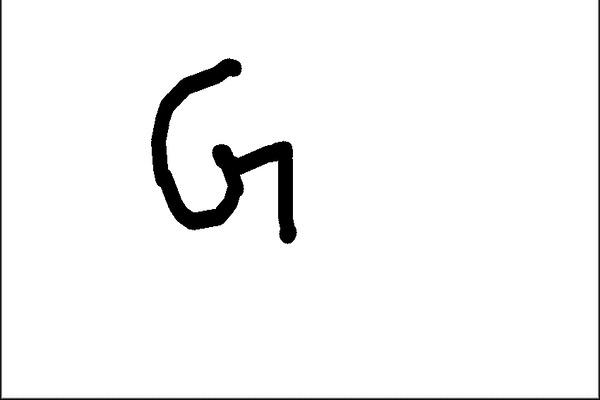G: (147, 54, 303, 248)
